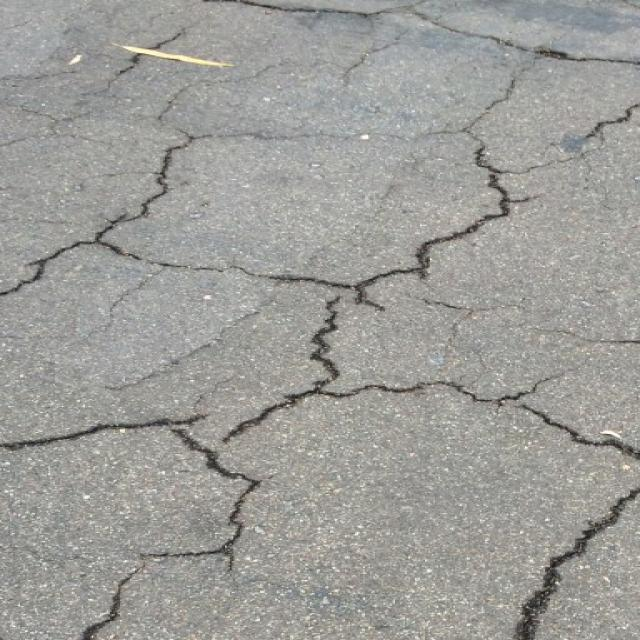Network: (7, 5, 634, 640)
